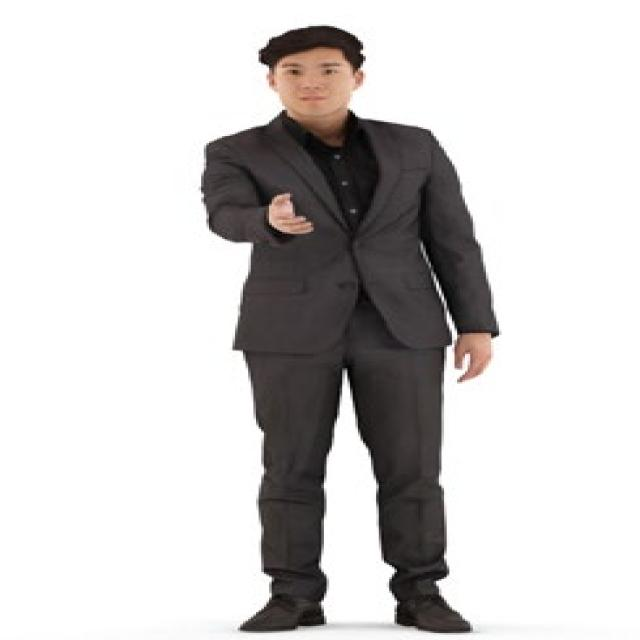standing: (193, 25, 506, 632)
